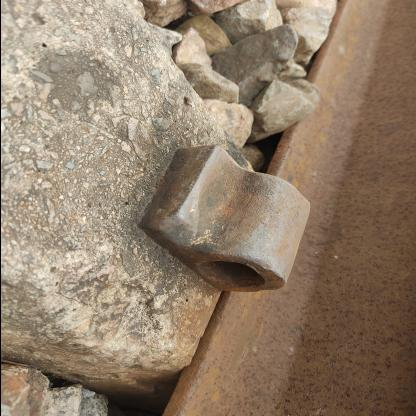Defective 1: (110, 120, 377, 341)
